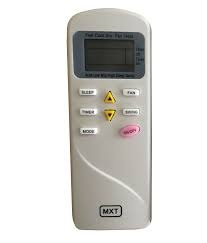remote control: (71, 16, 151, 229)
